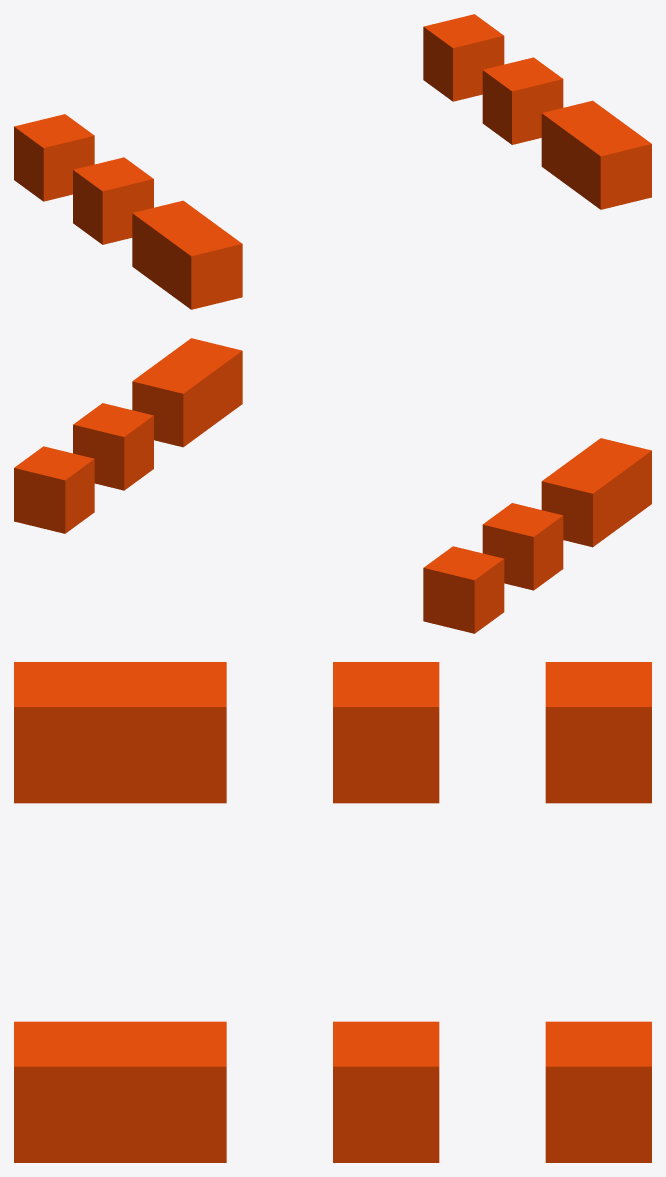
The model's file is Extra-3-GalactixRacer_EngineFire.obj.
3 views of the same model, one above another, from view 1: azimuth 30°, elevation 25°; view 2: azimuth 150°, elevation 25°; view 3: azimuth 270°, elevation 25° (orthographic). The views are drawn at different scales.
Parts seen in each view (by area): view 1: GalactixRacer_EngineFire; view 2: GalactixRacer_EngineFire; view 3: GalactixRacer_EngineFire.
Part boxes in pixels (x1,y1,x2,y2): GalactixRacer_EngineFire: (14, 14, 651, 309); GalactixRacer_EngineFire: (14, 338, 651, 633); GalactixRacer_EngineFire: (14, 662, 651, 1162).
Bounding box in the file's own units: 0.9 × 0.1 × 0.6.
Materials: 1 (1 with a texture image).
